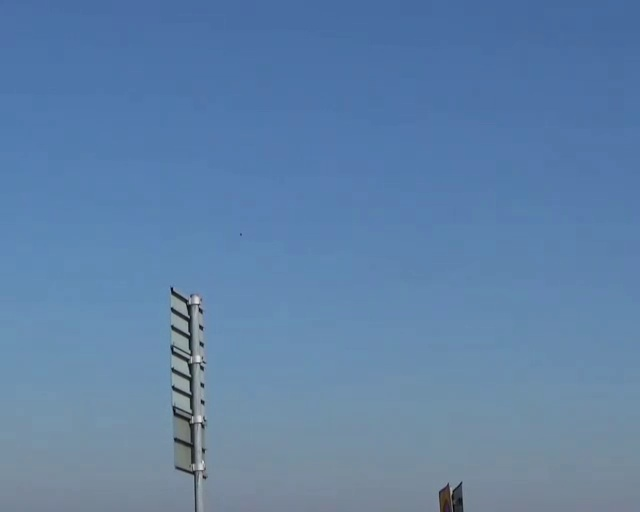BIRD: (239, 226, 250, 237)
